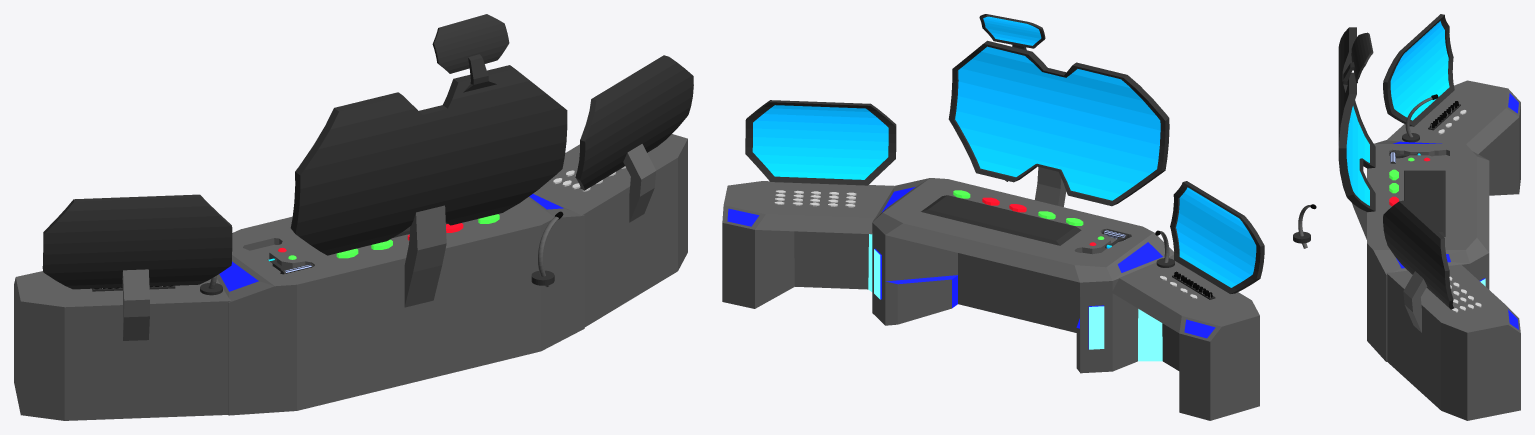
The model's file is control_panel.fbx.
3 views of the same model, side by side, from view 1: azimuth 30°, elevation 25°; view 2: azimuth 150°, elevation 25°; view 3: azimuth 270°, elevation 25° (orthographic). The views are drawn at different scales.
Visible parts, largest first — view 1: Cube, Cube.002, Cylinder.001, Cylinder.004, Cylinder.003, Cylinder.010; view 2: Cube, Cube.002, Cylinder.006, Cylinder.002, Cylinder.005, Cylinder.001, Plane, Cylinder.003, Cylinder.004, Cylinder.009, Cylinder.010; view 3: Cube.002, Cube, Cylinder.003, Cylinder.005, Cylinder.001, Plane, Cylinder.004, Cylinder.006, Cylinder.010, Cylinder.011, Cylinder.013.
Part boxes in pixels (box(x1,y1,x2,y2)): Cube: box(216, 194, 584, 415); Cube.002: box(14, 134, 687, 420); Cylinder.001: box(290, 54, 567, 255); Cylinder.004: box(42, 194, 232, 289); Cylinder.003: box(575, 55, 693, 190); Cylinder.010: box(432, 14, 509, 73); Cube: box(872, 167, 1173, 373); Cube.002: box(722, 181, 1259, 420); Cylinder.006: box(955, 46, 1160, 200); Cylinder.002: box(752, 105, 888, 179); Cylinder.005: box(1176, 187, 1256, 287); Cylinder.001: box(948, 40, 1169, 206); Plane: box(921, 195, 1081, 245); Cylinder.003: box(745, 100, 896, 185); Cylinder.004: box(1170, 181, 1264, 293); Cylinder.009: box(983, 16, 1041, 45); Cylinder.010: box(979, 14, 1045, 48); Cube.002: box(1386, 80, 1520, 420); Cube: box(1352, 140, 1489, 361); Cylinder.003: box(1383, 200, 1454, 309); Cylinder.005: box(1390, 21, 1449, 120); Cylinder.001: box(1338, 27, 1375, 212); Plane: box(1404, 170, 1445, 236); Cylinder.004: box(1383, 14, 1454, 126); Cylinder.006: box(1346, 106, 1369, 205); Cylinder.010: box(1351, 32, 1373, 83); Cylinder.011: box(1298, 97, 1432, 248); Cylinder.013: box(1293, 133, 1419, 243).
Size of the model in its own units: 299 by 149 by 114.
